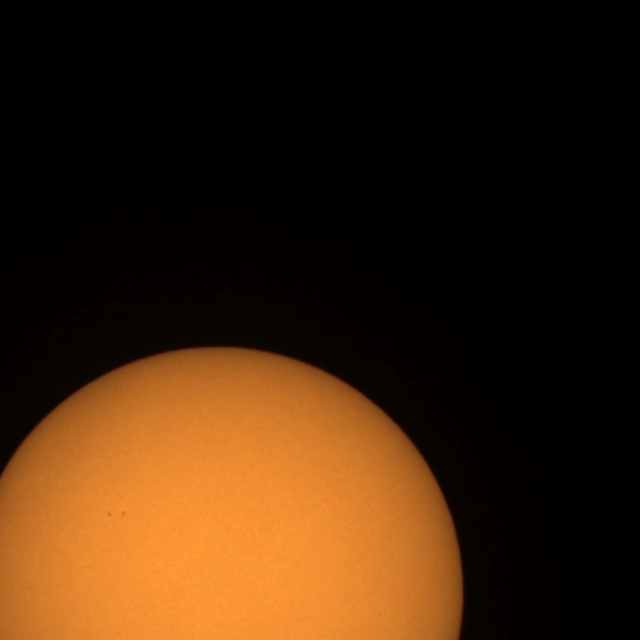sunspot: (107, 510, 127, 518), (120, 510, 127, 518), (106, 511, 113, 518)
